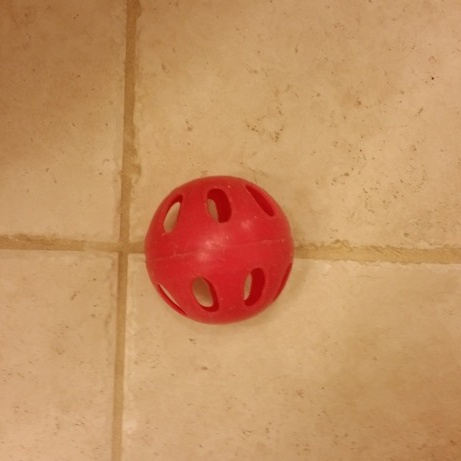ball: (141, 173, 301, 329)
